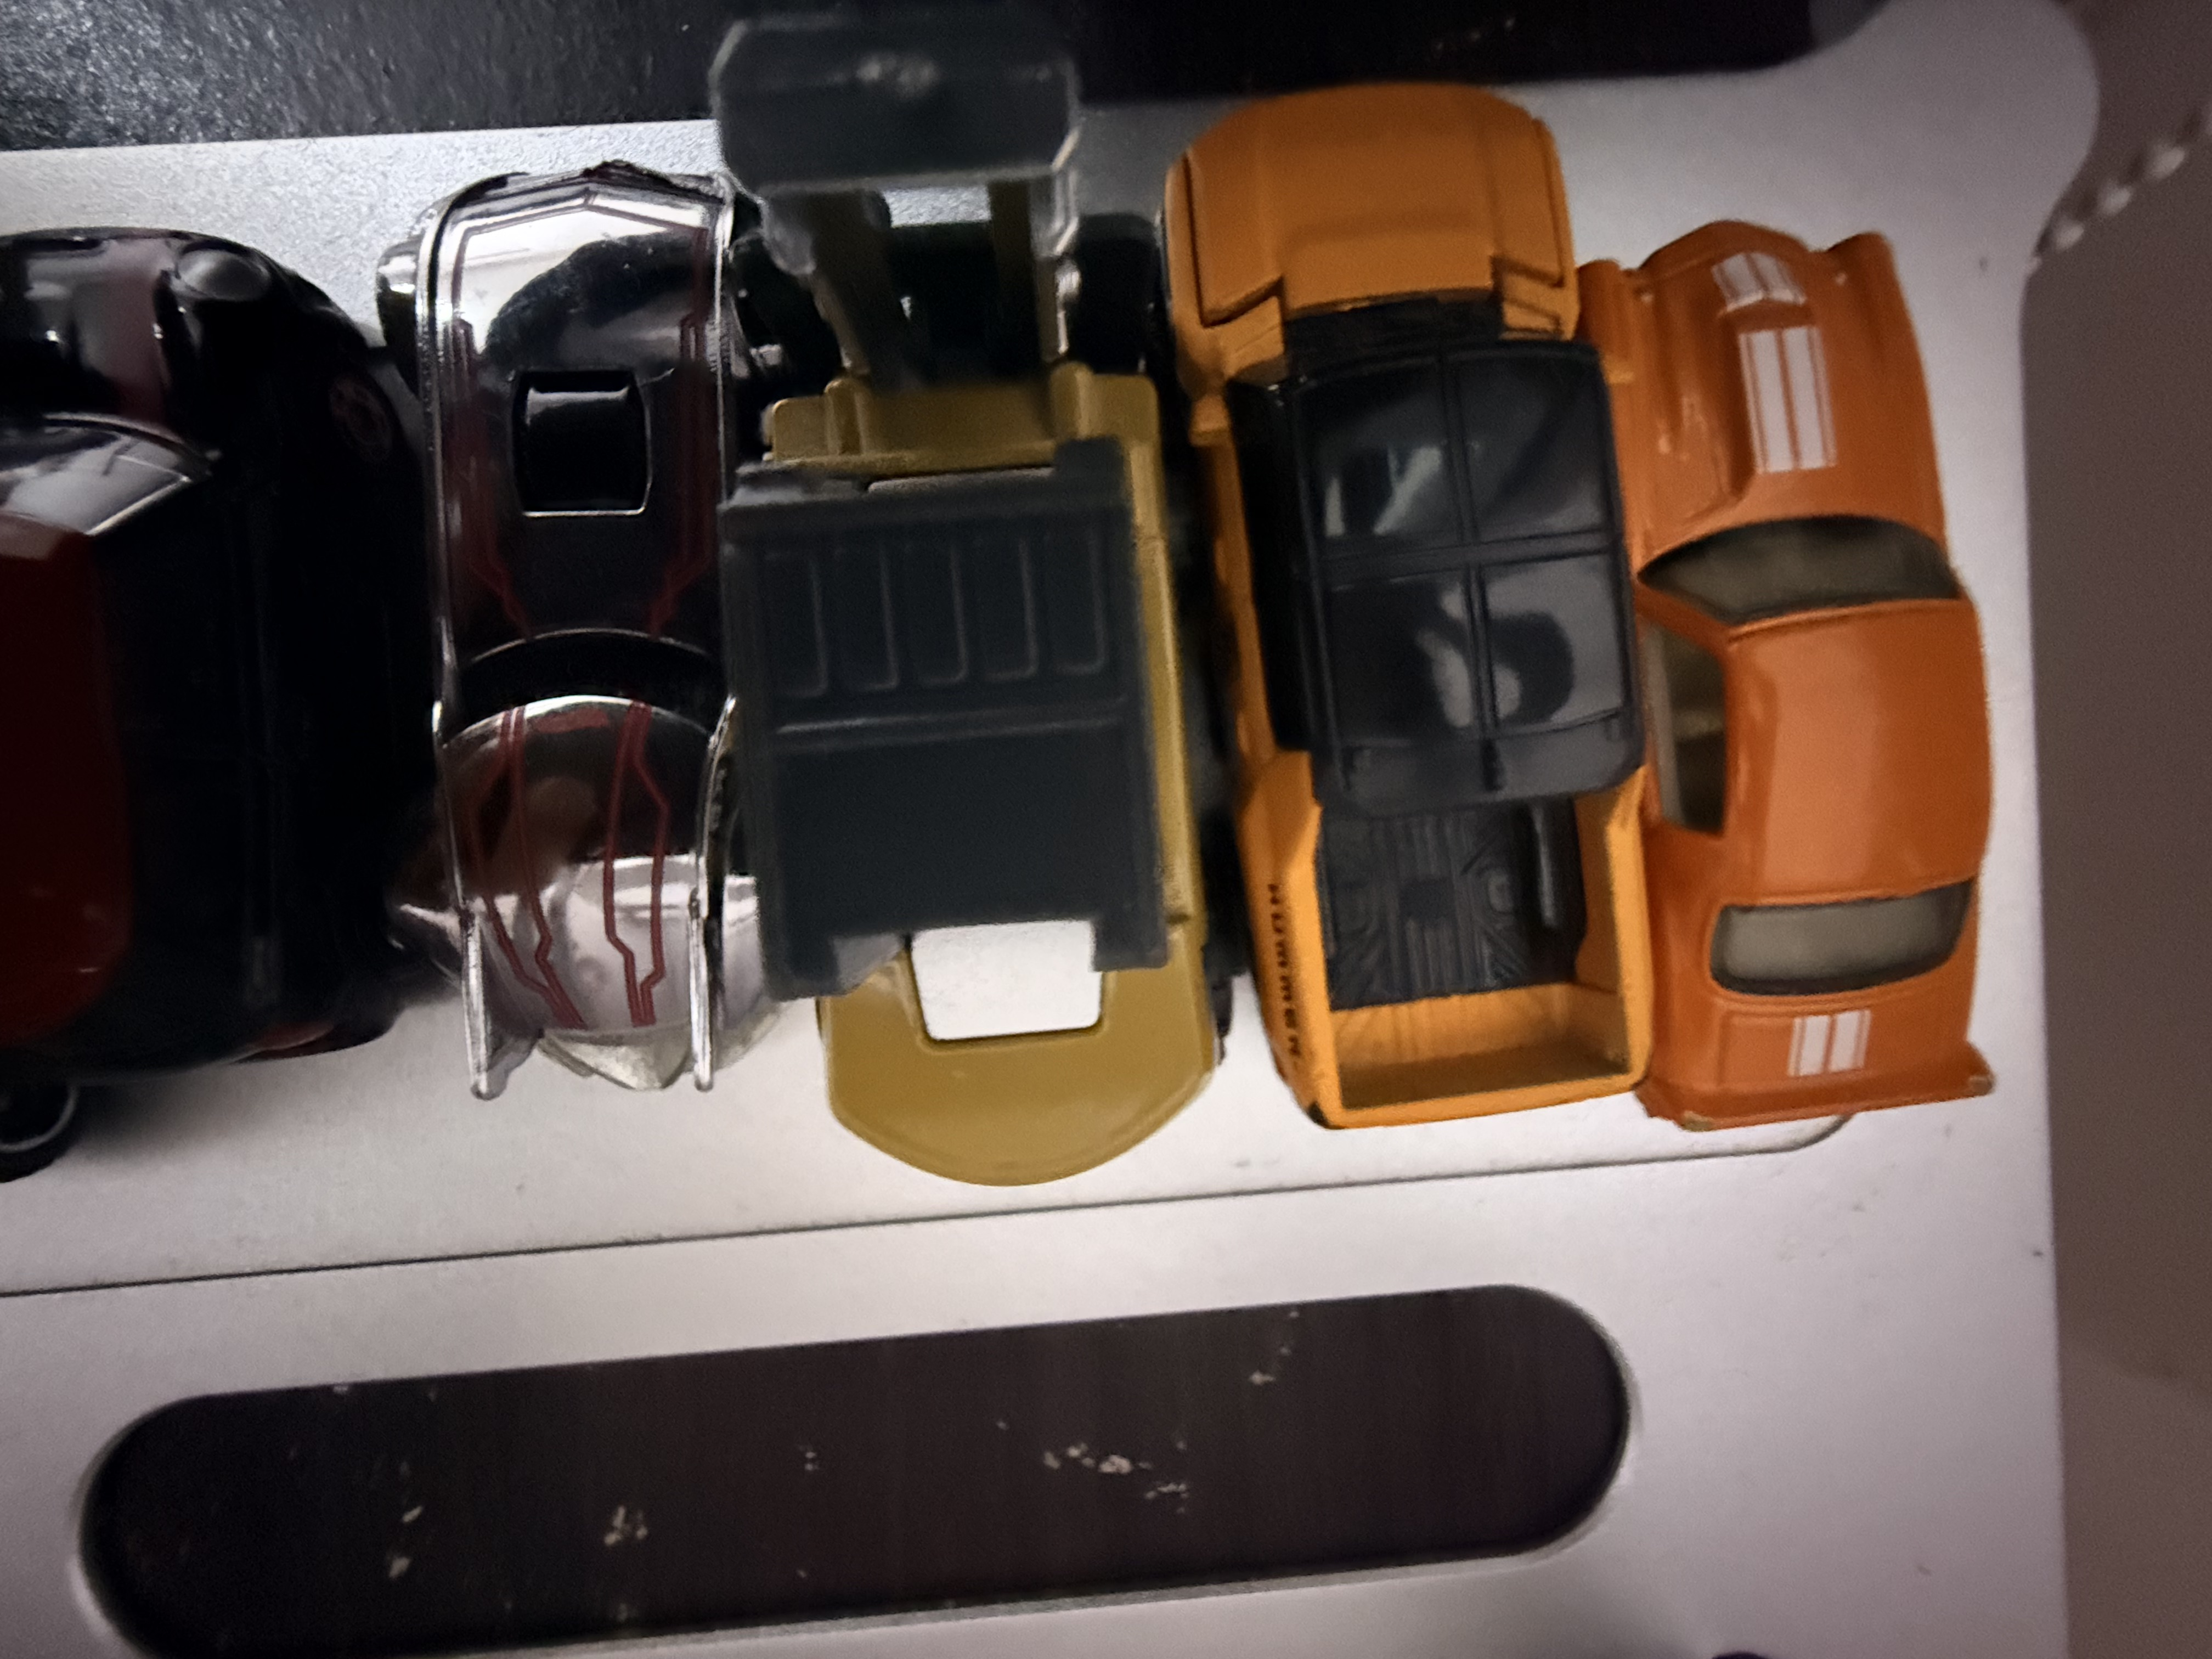camaro_rs: (1580, 216, 1994, 1136)
dc_comics: (376, 160, 768, 1105)
forklift: (707, 10, 1240, 1190)
gmc_hummer: (1163, 85, 1656, 1133)
mini_cooper: (0, 227, 380, 1066)
